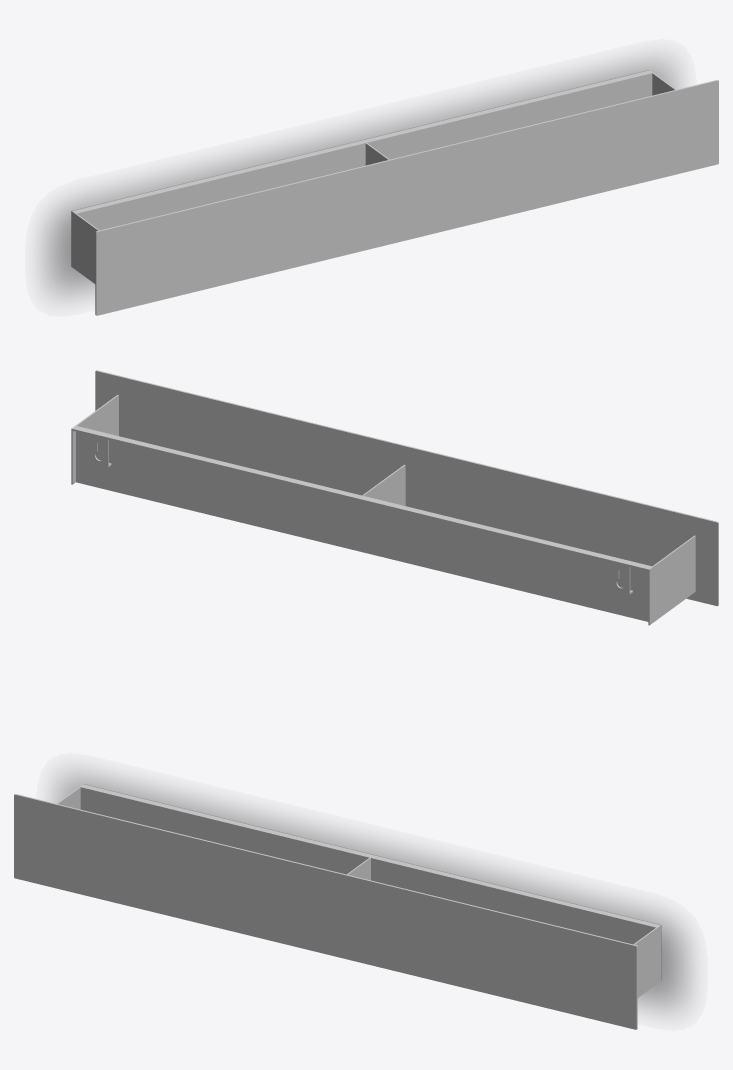
The model's file is skyline-mono.e8b7c39e09.ar.glb.
3 views of the same model, one above another, from view 1: azimuth 30°, elevation 25°; view 2: azimuth 150°, elevation 25°; view 3: azimuth 330°, elevation 25° (orthographic).
Parts seen in each view (by area): view 1: NAUO1, object 2; view 2: NAUO1; view 3: NAUO1, object 2.
Boxes of the visible parts, <box> form: NAUO1: <box>71,70,718,315</box>; object 2: <box>42,59,678,296</box>; NAUO1: <box>71,370,718,625</box>; NAUO1: <box>14,784,661,1029</box>; object 2: <box>54,773,690,1010</box>.
Size of the model in its own units: 0.78 by 0.17 by 0.092.
Materials: 2 (1 with a texture image).
